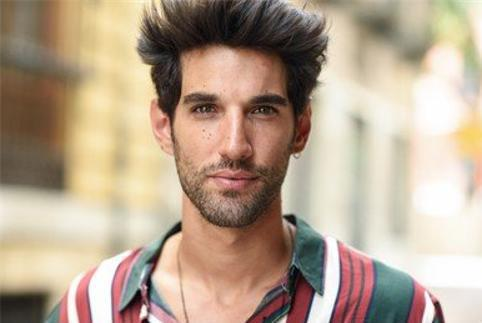Sober: (177, 62, 294, 210)
